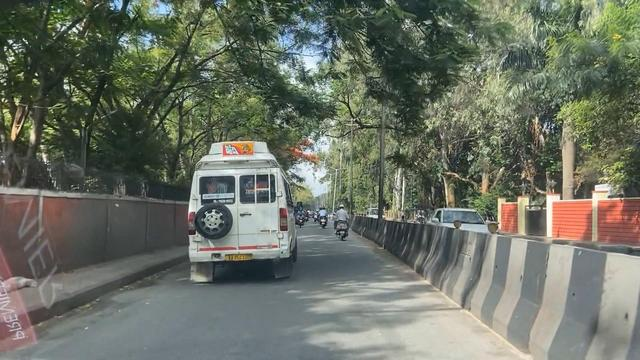HMV: (193, 145, 285, 276)
LMV: (337, 204, 349, 239), (319, 206, 327, 227)
